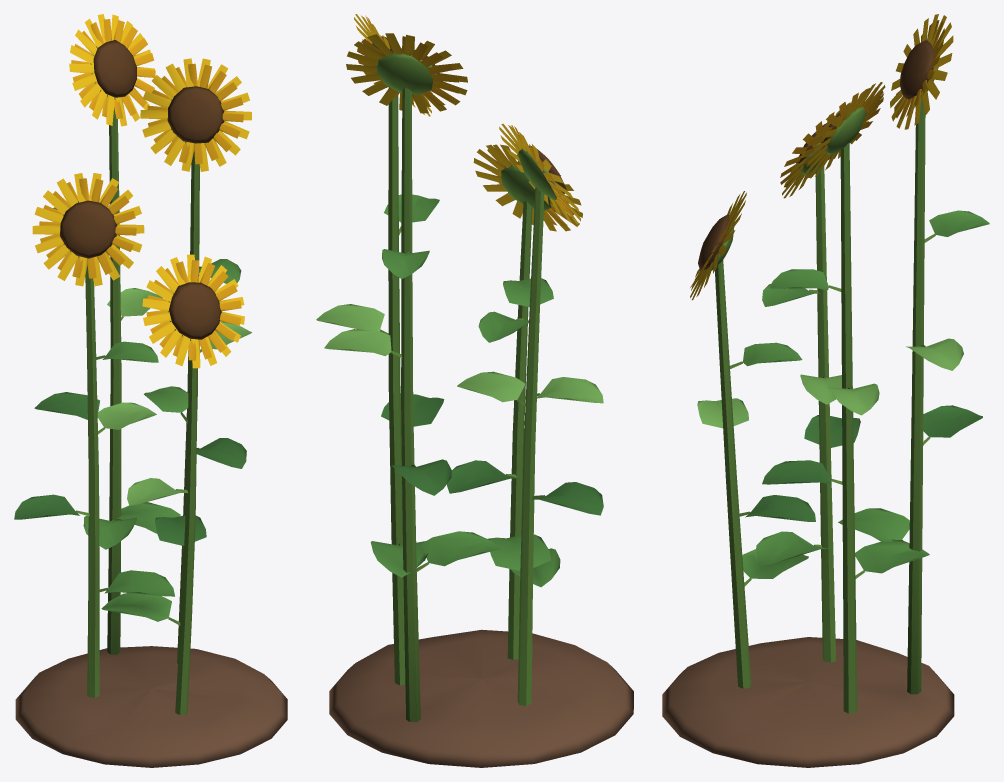
File: sunflowers.glb
3 renders of one model, left to right at view 1: azimuth 30°, elevation 25°; view 2: azimuth 150°, elevation 25°; view 3: azimuth 270°, elevation 25°, orthographic. The views are drawn at different scales.
Visible parts, largest first — view 1: sunflowers; view 2: sunflowers; view 3: sunflowers.
Boxes of the visible parts, x1,y1,x2,y2 form: sunflowers: (14,14,287,767); sunflowers: (316,14,633,767); sunflowers: (662,14,989,767).
Size of the model in its own units: 0.84 by 2.11 by 0.907.
